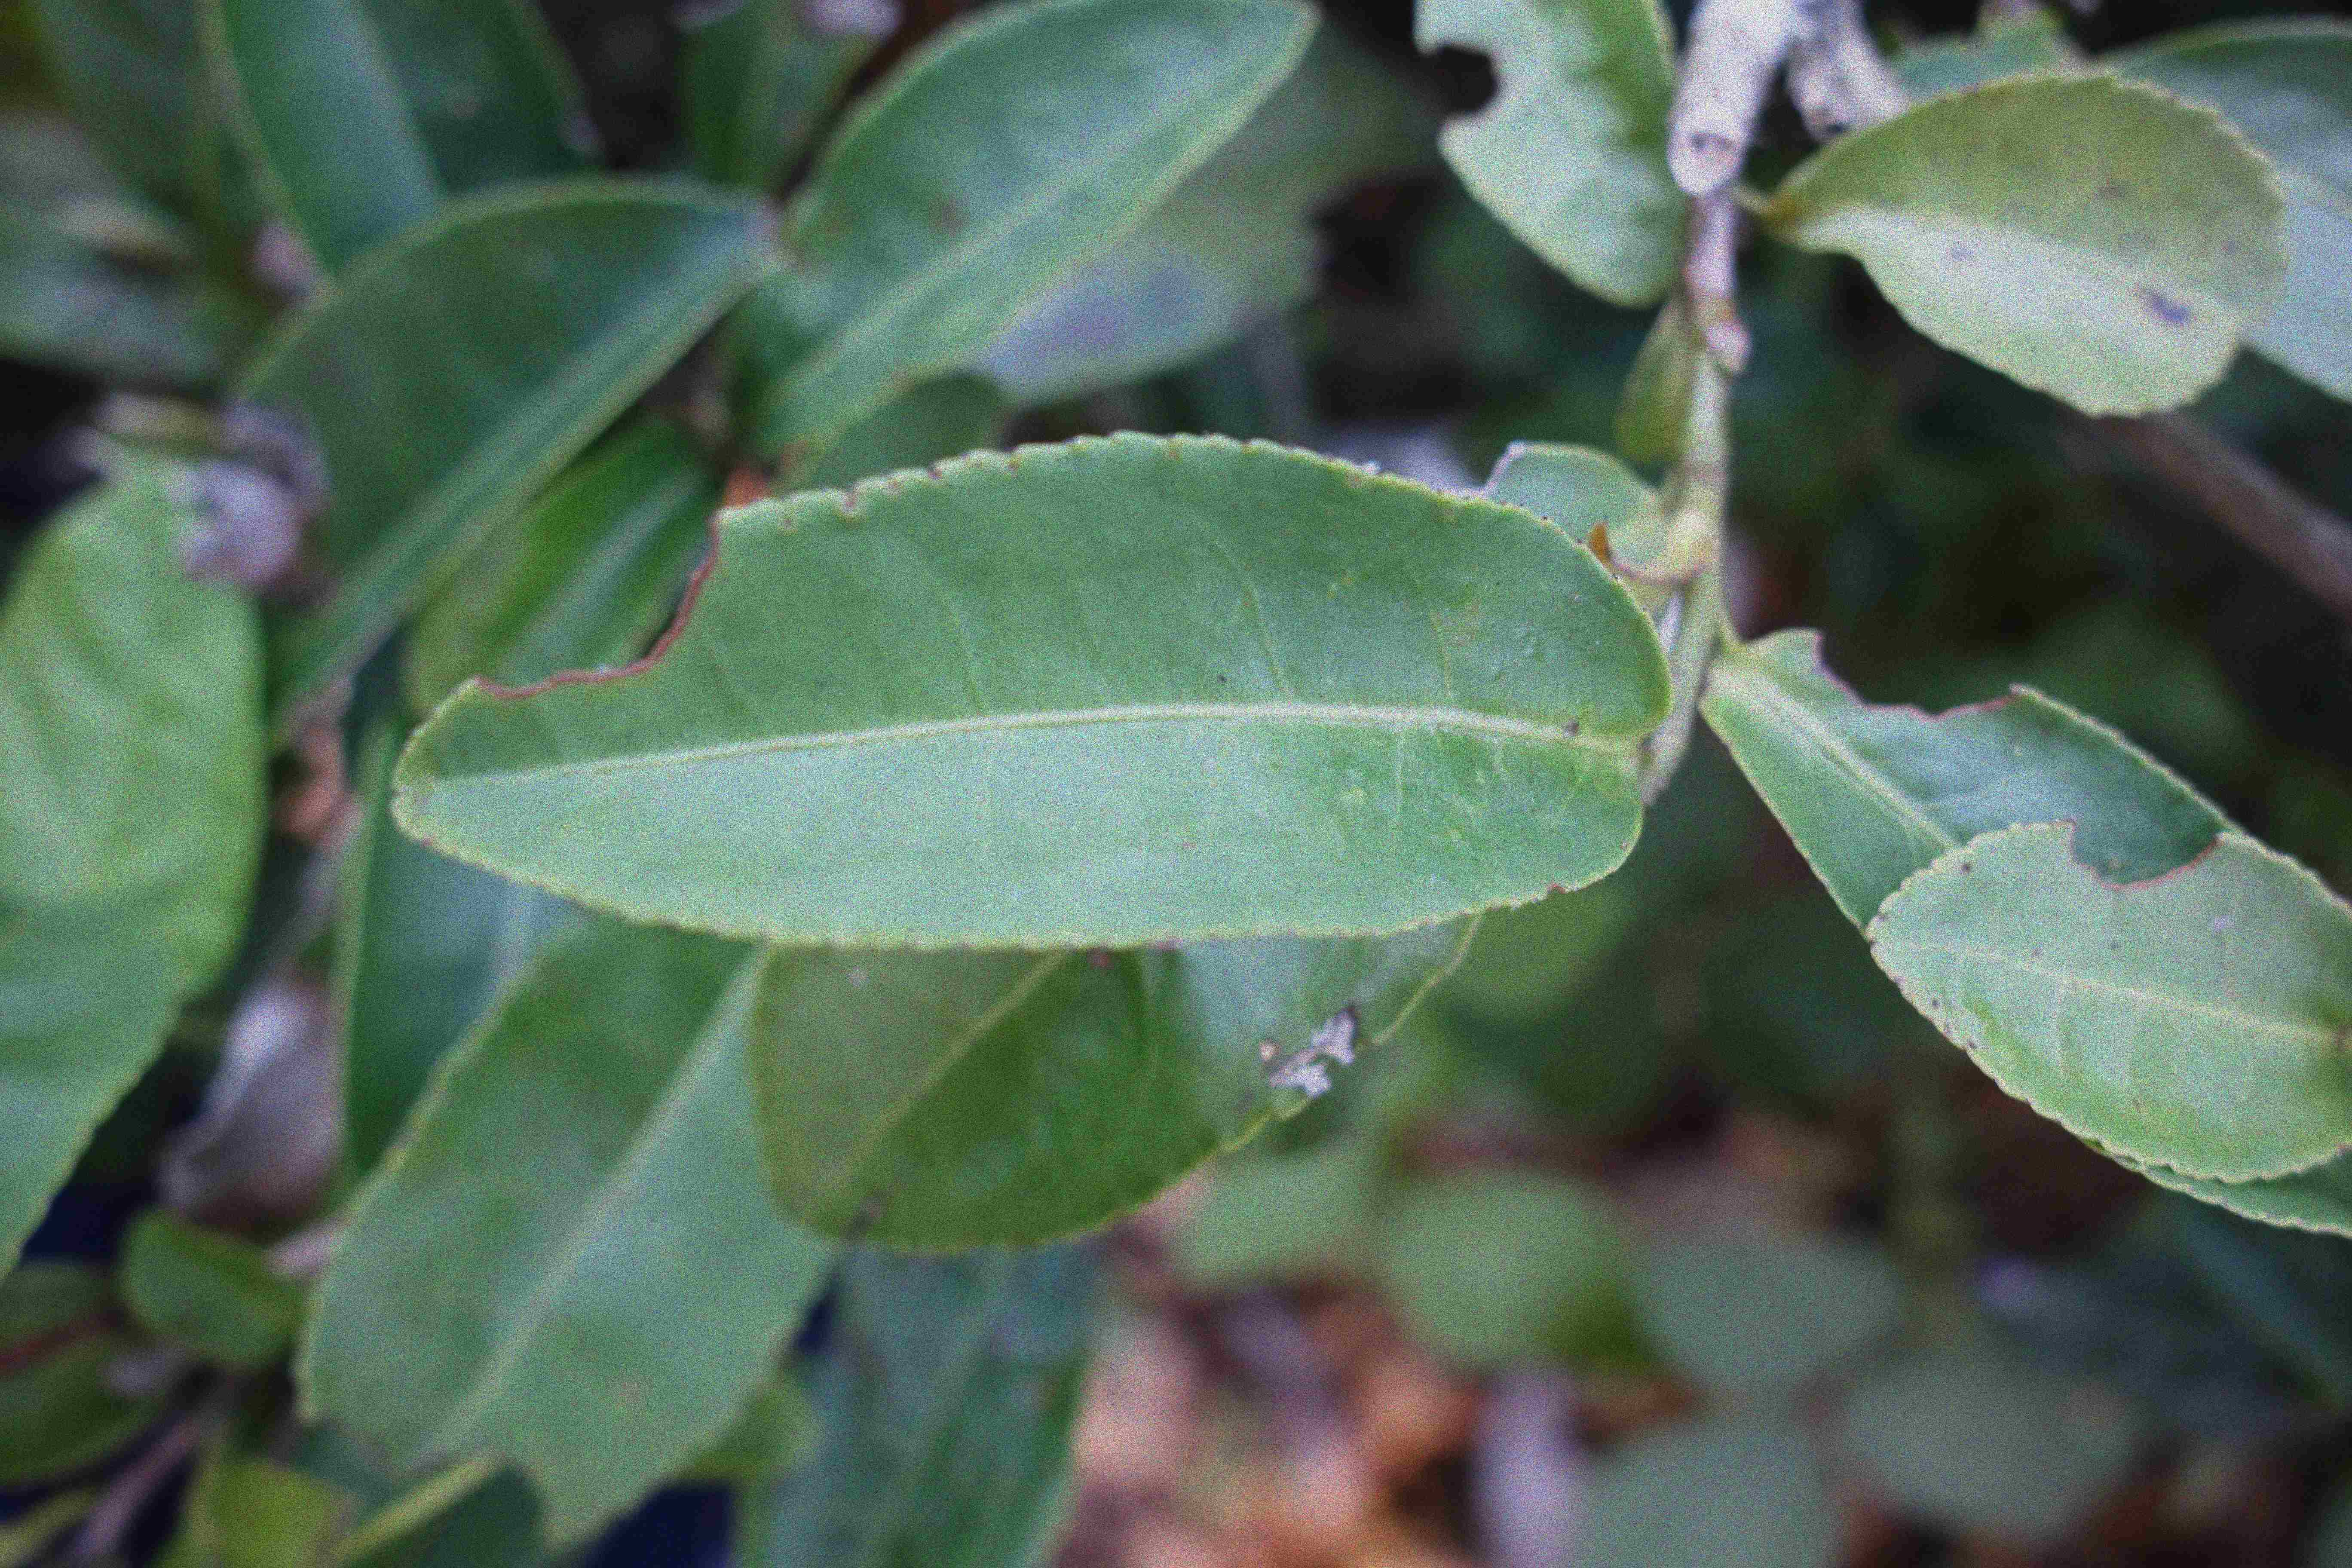chihuo_low: (388, 429, 1678, 959), (1871, 819, 2348, 1183), (1412, 7, 1689, 317)
